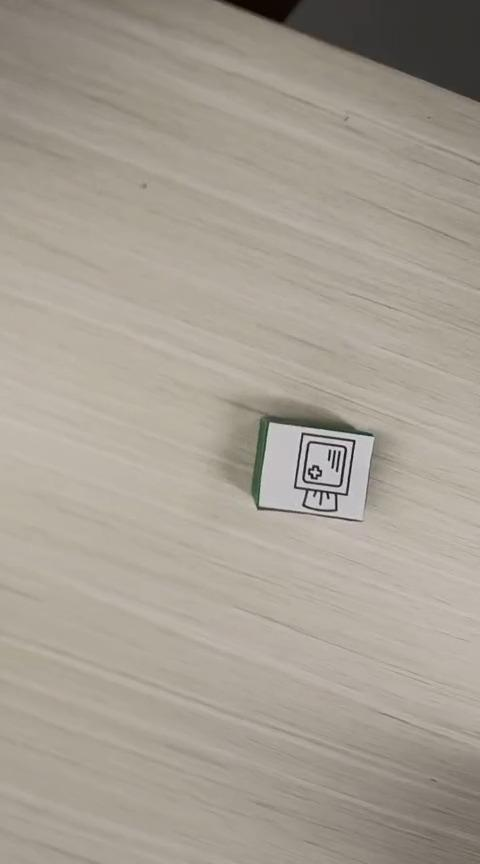Gauze: (250, 415, 375, 522)
